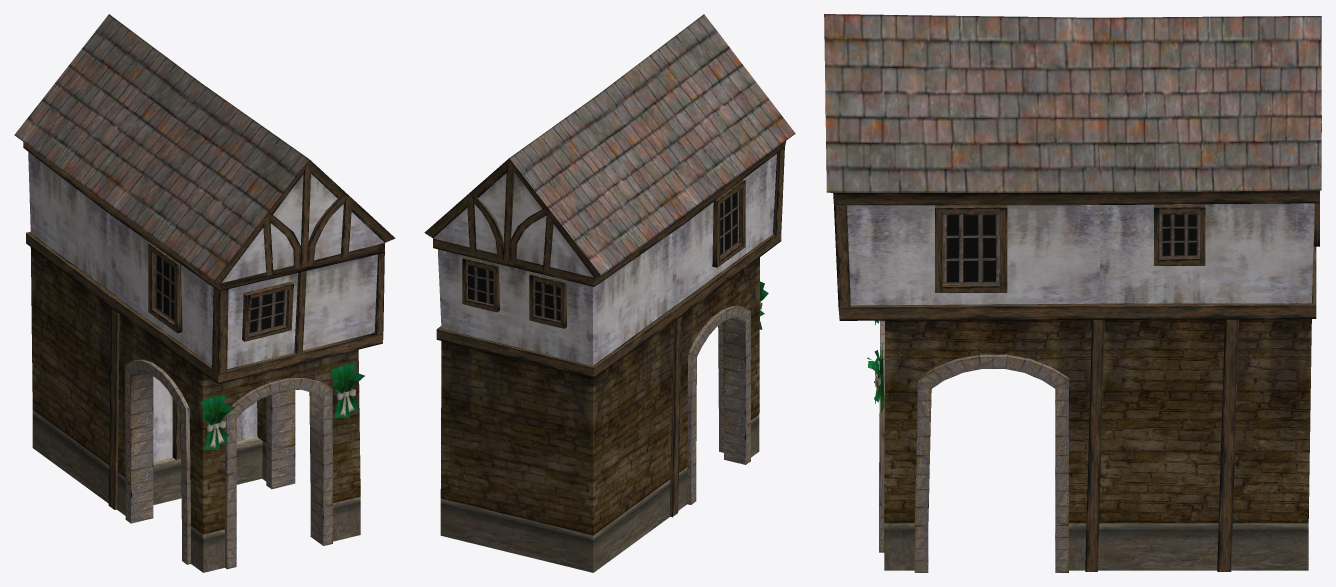
File: english_corner_e.fbx
The picture shows the model from 3 angles, left to right: view 1: azimuth 30°, elevation 25°; view 2: azimuth 150°, elevation 25°; view 3: azimuth 270°, elevation 25°; orthographic projection. The views are drawn at different scales.
Visible parts, largest first — view 1: building_shell1, window_a_01, window_a_03, step_front, beam_vert_tall03, beam_vert_tall011, beam_vert_tall014, beam_vert_tall012, beam_vert_tall010, door_frame, beam_vert_tall013; view 2: building_shell1, window_a_03, window_b_01, window_b_02, beam_vert_tall03, beam_vert_tall04, beam_vert_tall06, beam_vert_tall05; view 3: building_shell1, window_a_02, beam_vert_tall02, beam_vert_tall01, window_b_03.
Boxes of the visible parts, x1=… form: building_shell1: x1=14, y1=14, x2=395, y2=572; window_a_01: x1=242, y1=281, x2=293, y2=341; window_a_03: x1=148, y1=243, x2=182, y2=333; step_front: x1=153, y1=440, x2=262, y2=504; beam_vert_tall03: x1=108, y1=308, x2=119, y2=509; beam_vert_tall011: x1=300, y1=166, x2=311, y2=267; beam_vert_tall014: x1=294, y1=271, x2=306, y2=353; beam_vert_tall012: x1=307, y1=195, x2=345, y2=265; beam_vert_tall010: x1=268, y1=213, x2=301, y2=268; door_frame: x1=172, y1=398, x2=180, y2=459; beam_vert_tall013: x1=340, y1=199, x2=351, y2=257; building_shell1: x1=424, y1=14, x2=795, y2=572; window_a_03: x1=712, y1=179, x2=745, y2=267; window_b_01: x1=462, y1=257, x2=499, y2=312; window_b_02: x1=529, y1=273, x2=566, y2=328; beam_vert_tall03: x1=670, y1=316, x2=681, y2=517; beam_vert_tall04: x1=503, y1=162, x2=514, y2=261; beam_vert_tall06: x1=473, y1=195, x2=503, y2=259; beam_vert_tall05: x1=509, y1=208, x2=546, y2=262; building_shell1: x1=824, y1=14, x2=1321, y2=572; window_a_02: x1=935, y1=205, x2=1007, y2=292; beam_vert_tall02: x1=1217, y1=319, x2=1238, y2=571; beam_vert_tall01: x1=1085, y1=320, x2=1104, y2=571; window_b_03: x1=1154, y1=205, x2=1205, y2=265.
Size of the model in its own units: 2446 by 5286 by 4666.
2 materials, 2 textured.
